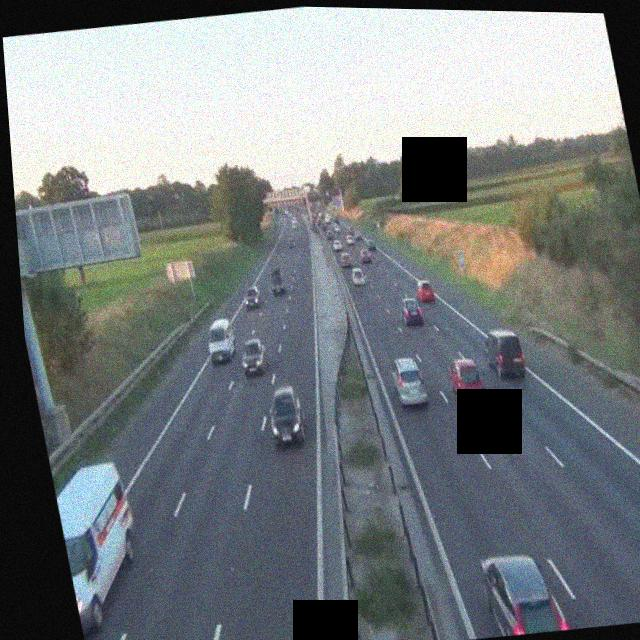car: (477, 548, 570, 639), (263, 383, 309, 448), (480, 325, 529, 382), (390, 354, 430, 408), (446, 354, 487, 404), (203, 316, 240, 364), (238, 336, 270, 376), (398, 294, 425, 327), (414, 278, 437, 303), (269, 269, 287, 296), (242, 285, 262, 307), (351, 268, 366, 285), (338, 252, 353, 267), (358, 248, 371, 263), (364, 236, 376, 251), (331, 238, 343, 252), (286, 237, 296, 249), (292, 220, 299, 230)
